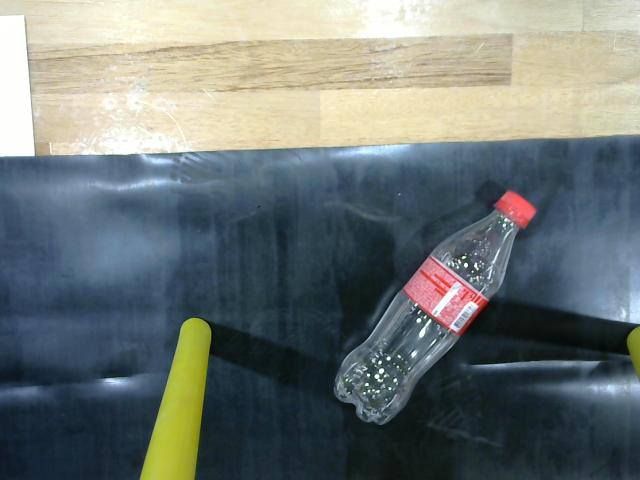bottle: (329, 183, 541, 427)
